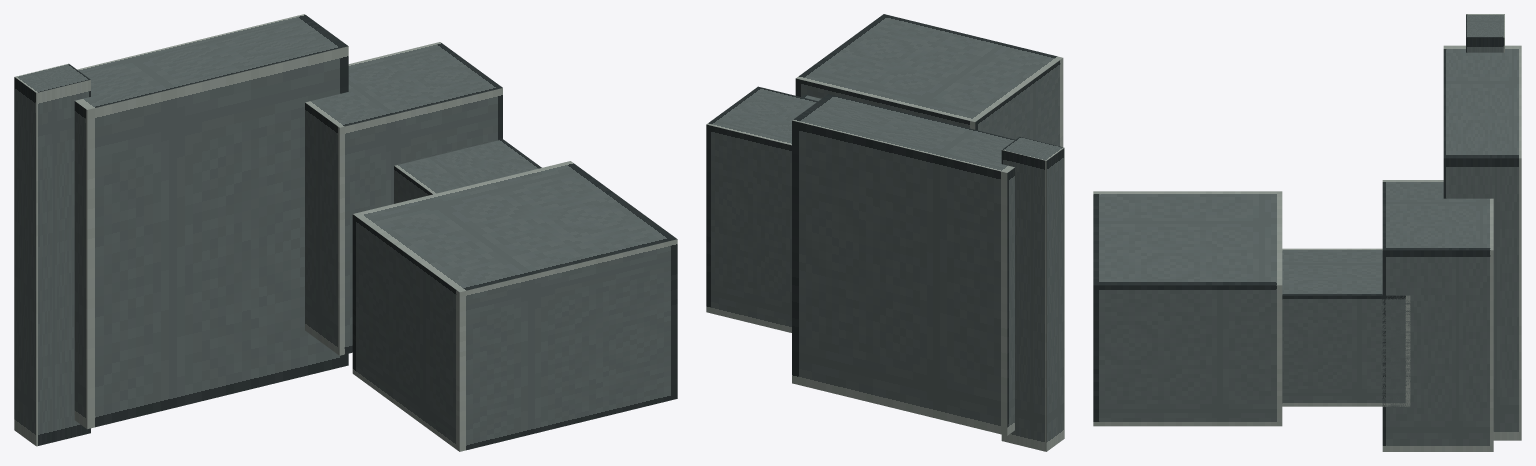
File: bench_hoe_1.obj
The picture shows the model from 3 angles, left to right: view 1: azimuth 30°, elevation 25°; view 2: azimuth 150°, elevation 25°; view 3: azimuth 270°, elevation 25°; orthographic projection. The views are drawn at different scales.
Parts seen in each view (by area): view 1: geometry; view 2: geometry; view 3: geometry.
Boxes of the visible parts, x1,y1,x2,y2 form: geometry: [14, 14, 677, 451]; geometry: [706, 14, 1064, 451]; geometry: [1093, 14, 1521, 451].
Bounding box in the file's own units: 0.3185 × 0.25 × 0.3105.
